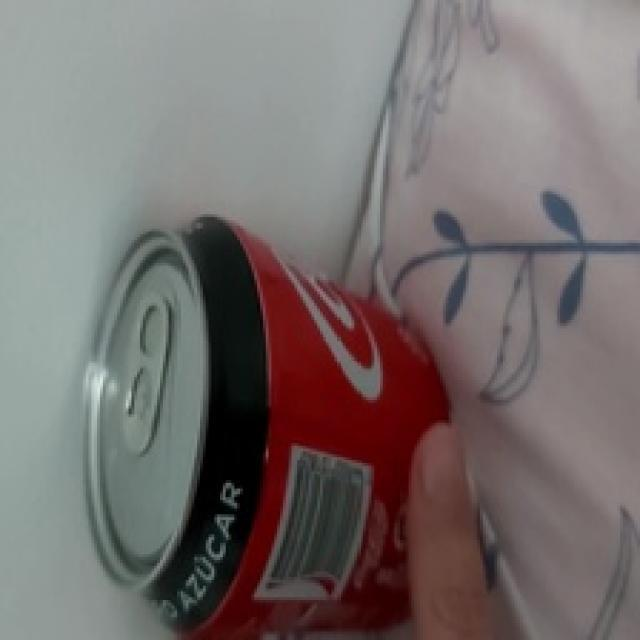recyclable: (82, 208, 448, 640)
